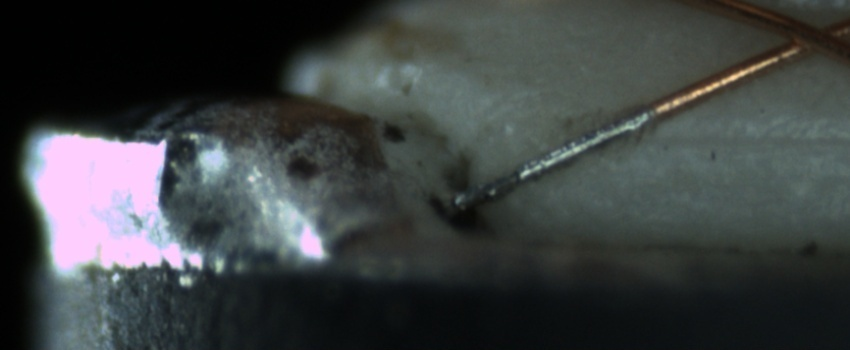CL: (759, 5, 848, 67)
DL: (629, 104, 848, 173)
TS: (444, 109, 652, 215)
